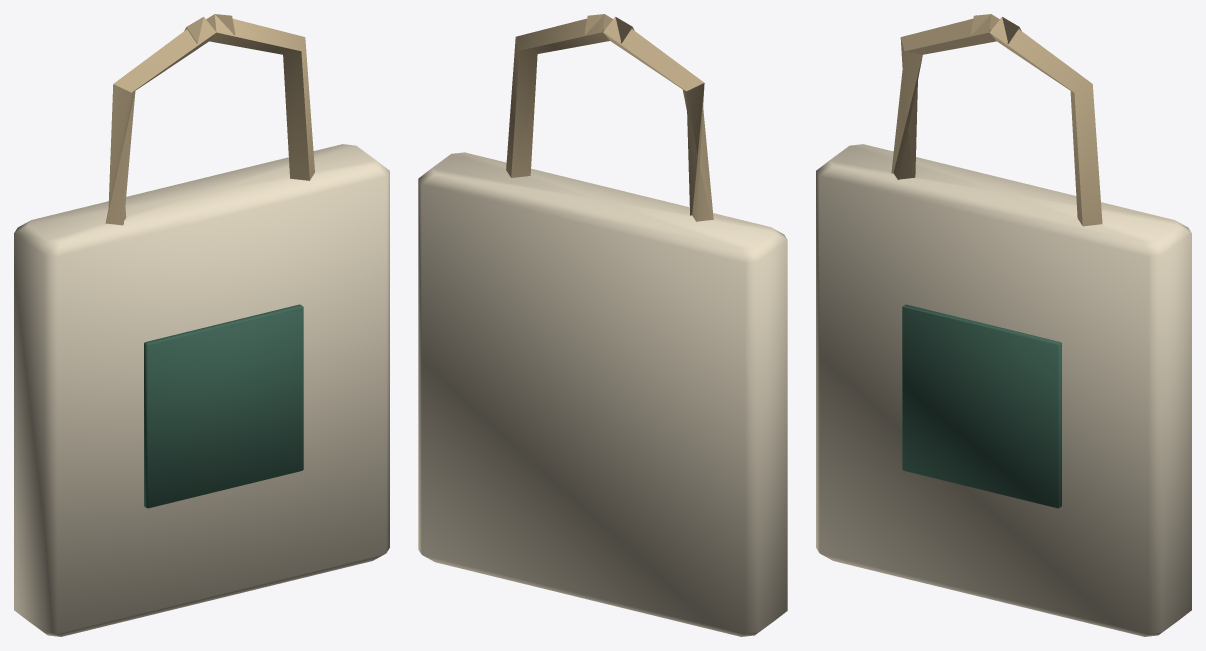
File: merch-tote.glb
3 renders of one model, left to right at view 1: azimuth 30°, elevation 25°; view 2: azimuth 150°, elevation 25°; view 3: azimuth 330°, elevation 25°, orthographic.
Parts seen in each view (by area): view 1: merch-tote; view 2: merch-tote; view 3: merch-tote.
Part boxes in pixels (x1,y1,x2,y2): merch-tote: [14, 14, 389, 636]; merch-tote: [418, 14, 787, 636]; merch-tote: [816, 14, 1191, 636].
Size of the model in its own units: 0.11 by 0.1756 by 0.024.
